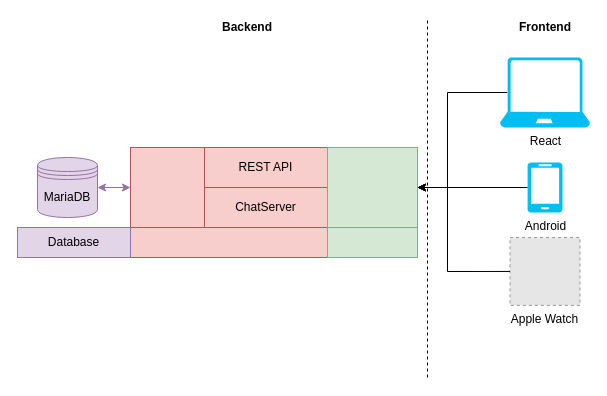
Image size: 607x396. Some labels were removed from this diagram. Grey dashed boxes stand in for pictures. The box of each missing label's shape, as (x1, y1, x2, y2) in pixels:
NGINX: (326, 146, 418, 228)
Repositories: (130, 146, 204, 228)
Spring: (130, 226, 328, 258)
Web Server: (326, 226, 418, 258)
